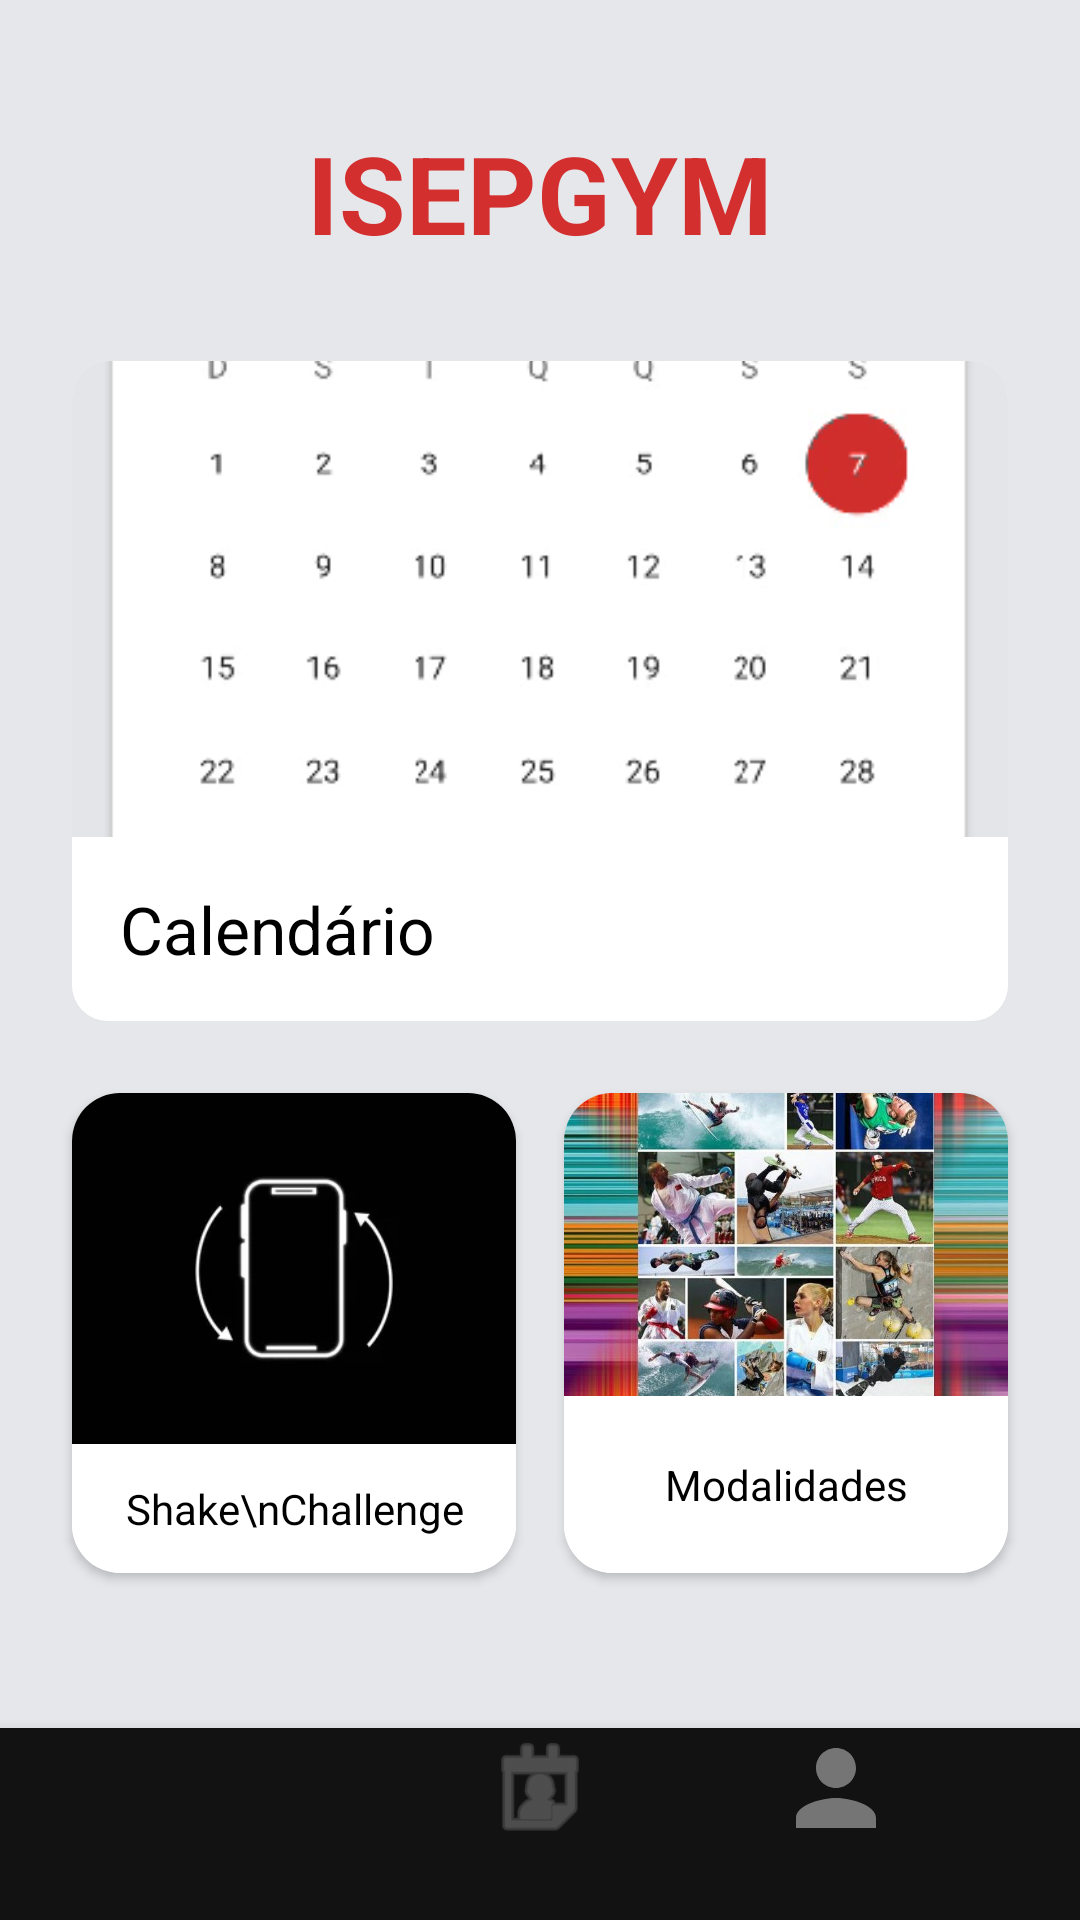

Icon click points for this 1080 x 1920 phone screenshot, format (x=x, y=y):
calendar: (x=540, y=1786)
Perfil: (x=836, y=1788)
